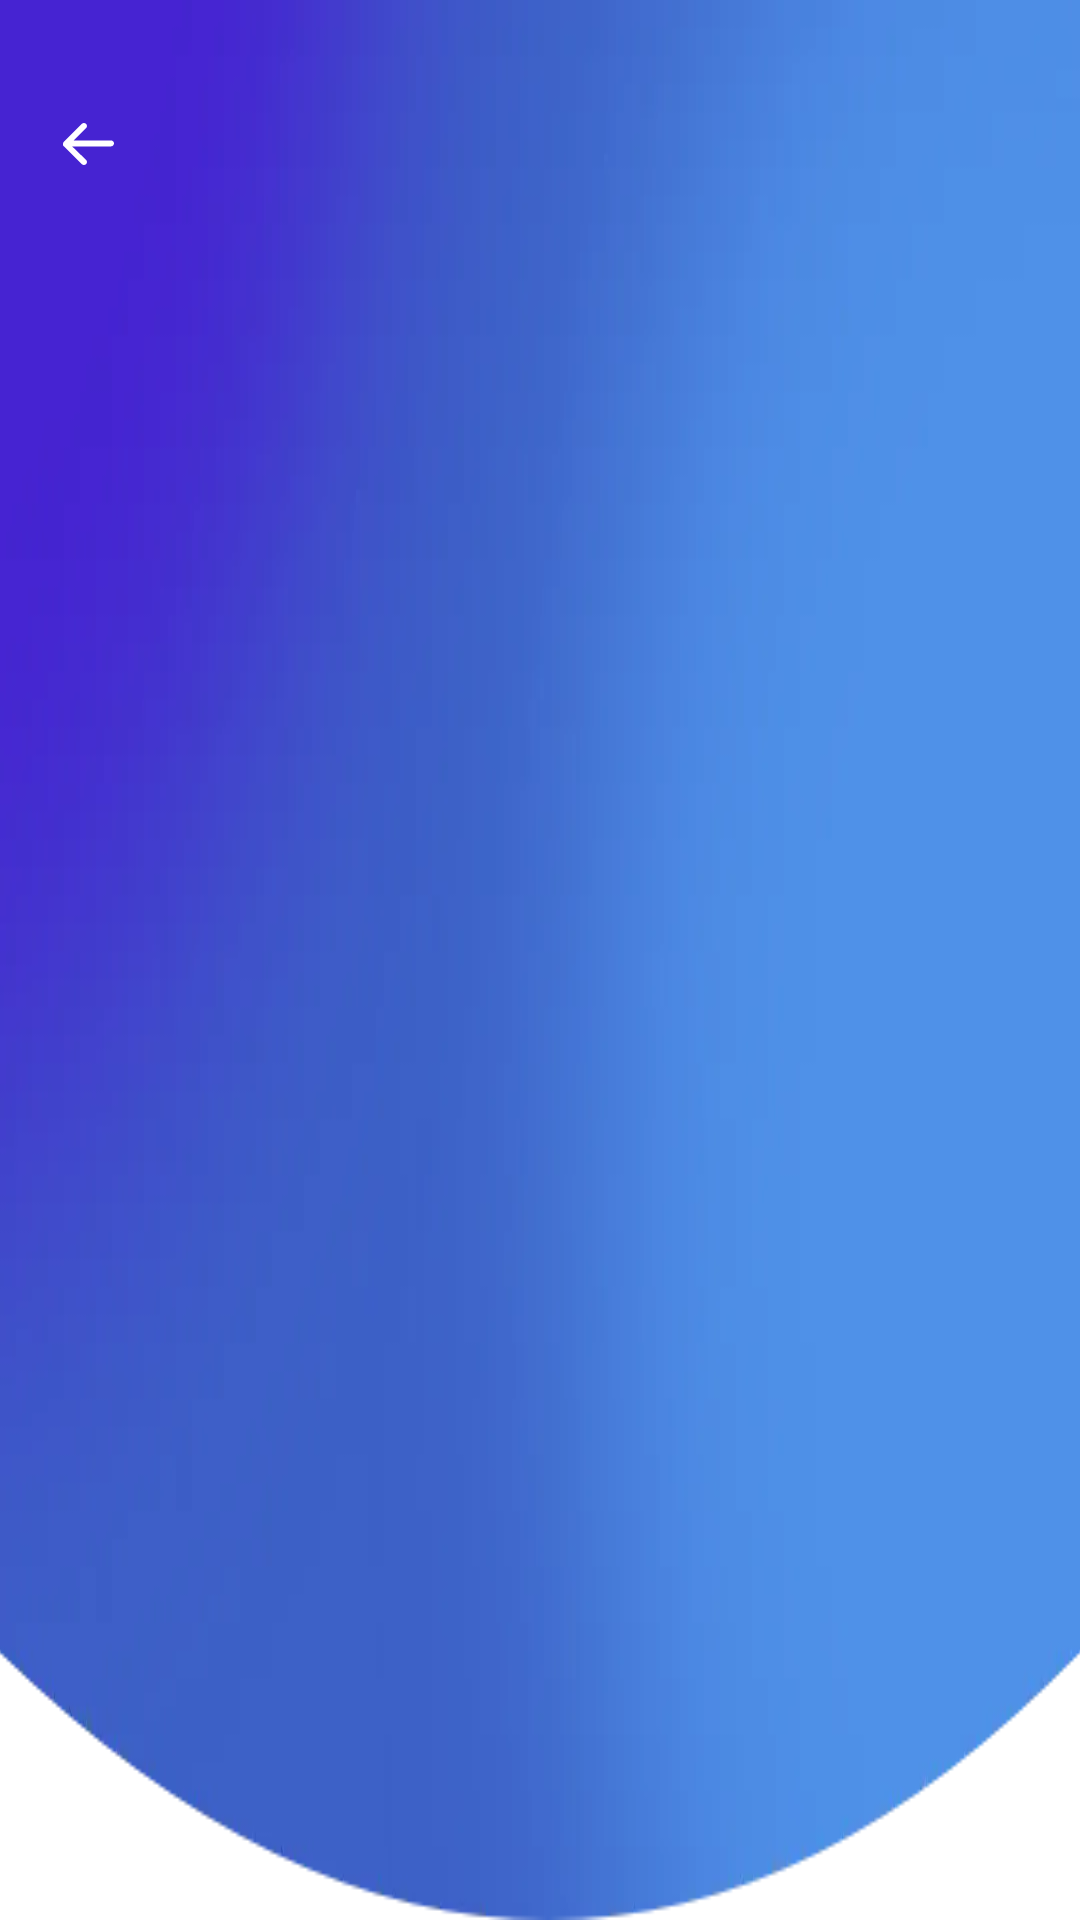

Icons on this 1080px×1920px Android screen, each with its box as (x1, y1, x2, y2):
title back: (63, 123, 114, 165)
